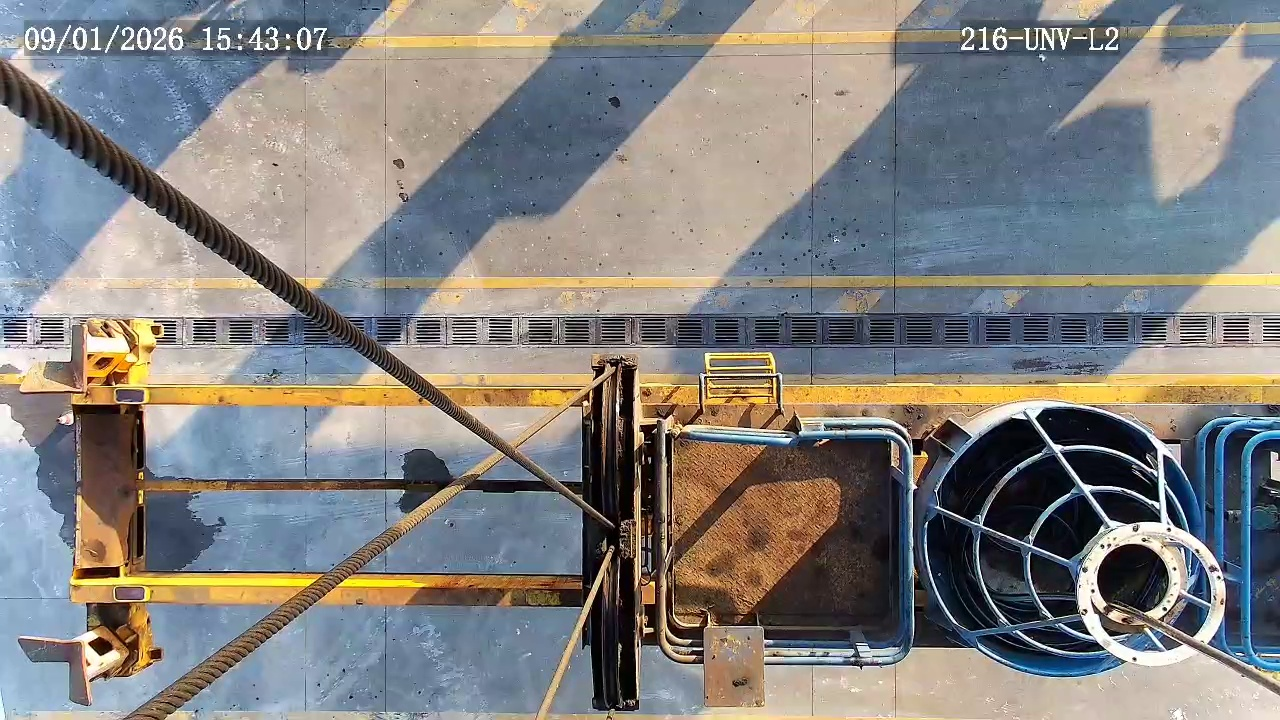left: (926, 405, 1203, 677)
